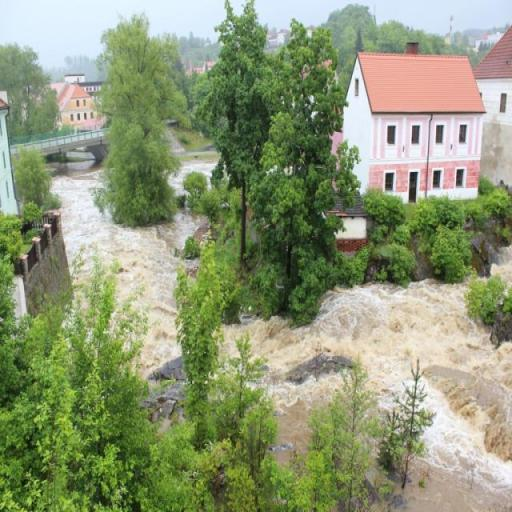flood: (224, 279, 512, 512), (49, 152, 206, 377), (173, 154, 215, 192), (492, 246, 512, 285)
house: (346, 50, 482, 196), (483, 26, 512, 144), (58, 79, 98, 126)
